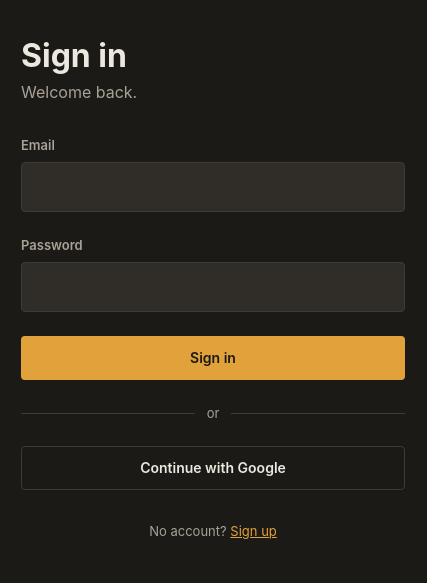
Test case: SignInForm (AUTH-01) › shows a specific inline error for invalid credentials, naming what went wrong (AUTH-01 edge case)
The image size is (427, 583).
In the field labelled "Email": [213, 187] box x1=21 y1=162 x2=405 y2=212, type "user@example.com"
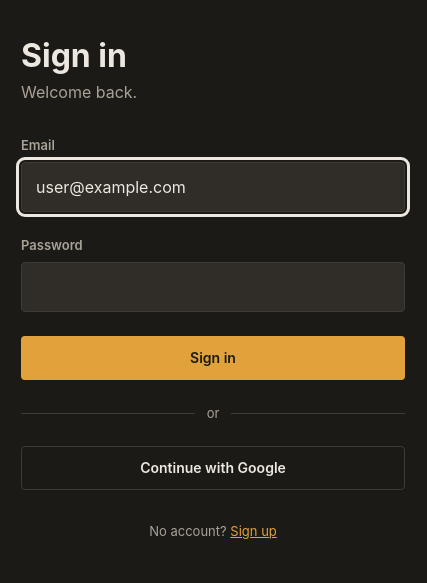
In the password field labelled "Password": [213, 287] box x1=21 y1=262 x2=405 y2=312, type "wrong"
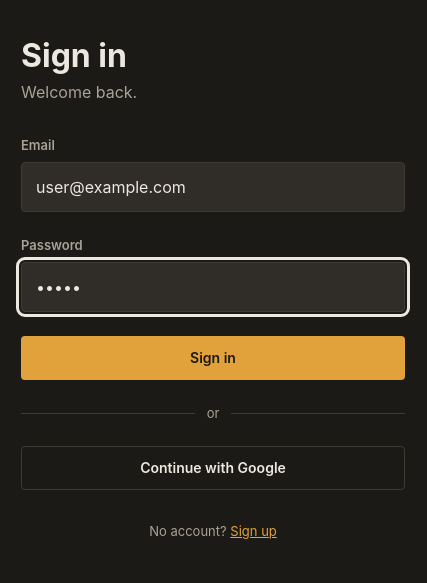
Click the button "Sign in": [213, 358] box x1=21 y1=336 x2=405 y2=380
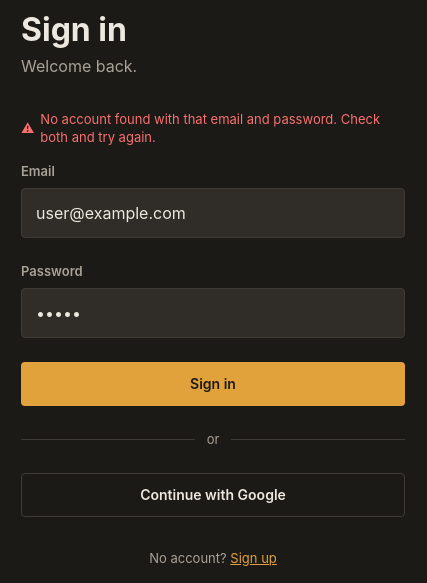
expect the message shows "No account found": met, box x1=40 y1=111 x2=380 y2=145
